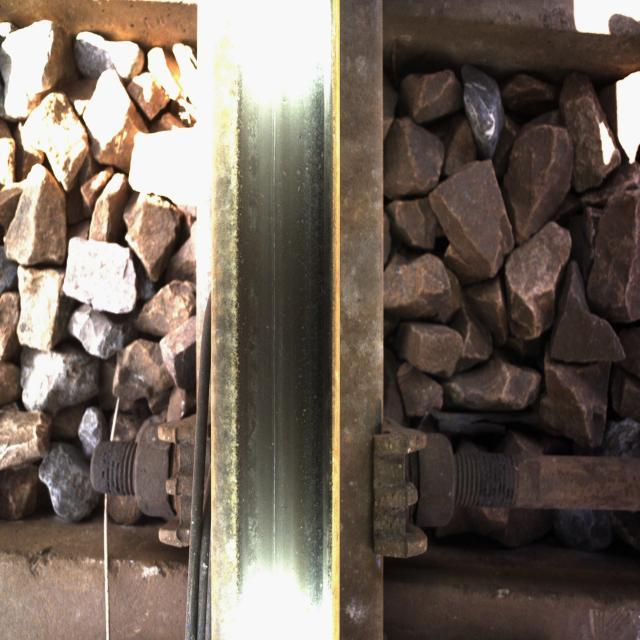break: (238, 65, 322, 600)
